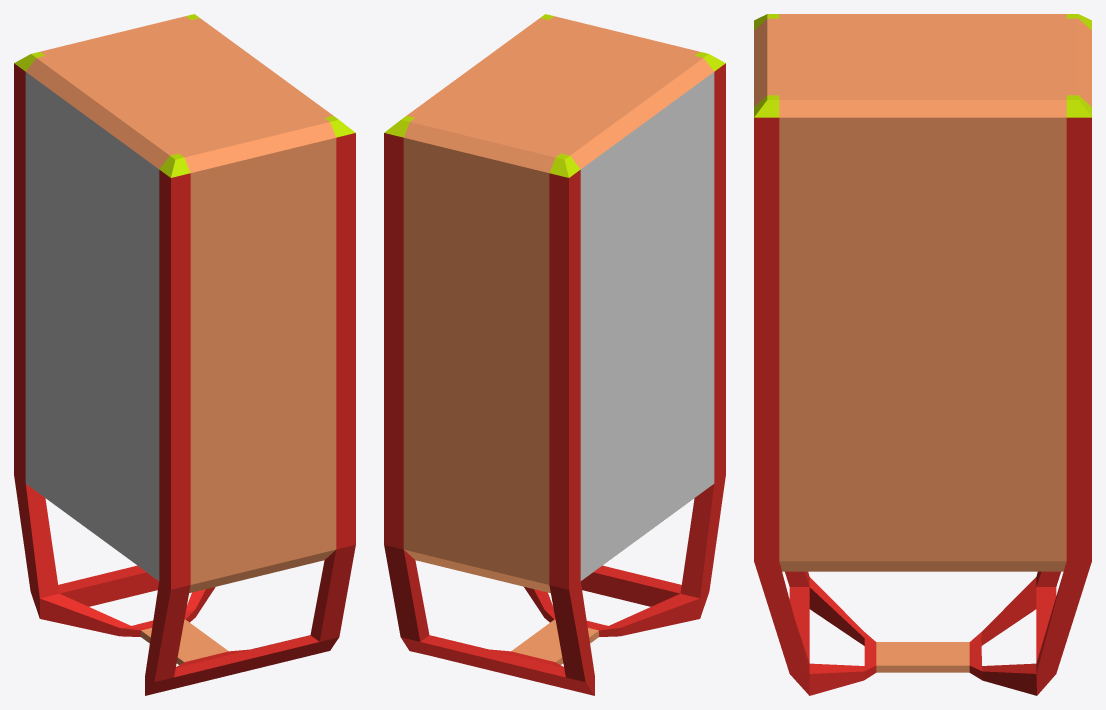
The model's file is vending machine.fbx.
The picture shows the model from 3 angles, left to right: view 1: azimuth 30°, elevation 25°; view 2: azimuth 150°, elevation 25°; view 3: azimuth 270°, elevation 25°; orthographic projection. The views are drawn at different scales.
Visible parts, largest first — view 1: Cube; view 2: Cube; view 3: Cube.
Part boxes in pixels (x1,y1,x2,y2): Cube: (14,14,355,695); Cube: (384,14,725,695); Cube: (754,14,1091,695).
Bounding box in the file's own units: 364 × 1055 × 535.
